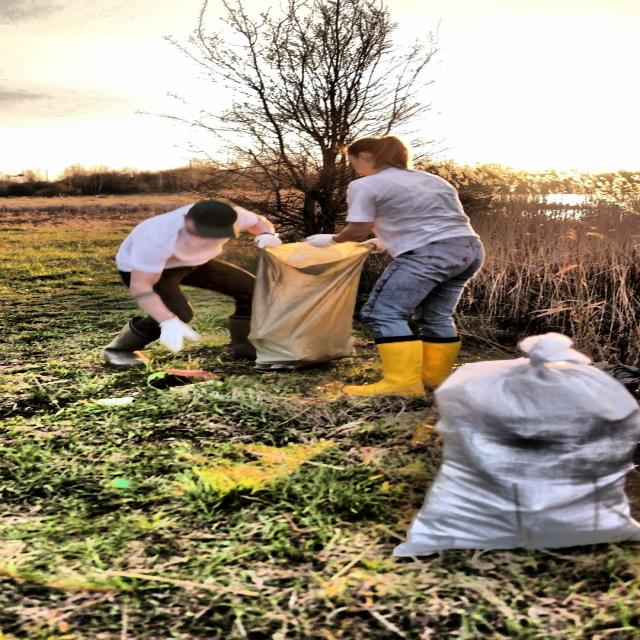gloved: (154, 316, 196, 357), (249, 230, 288, 250), (300, 231, 342, 249)
